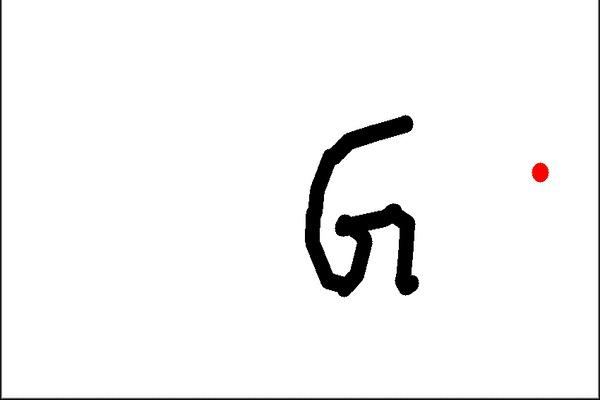G: (297, 111, 426, 300)
